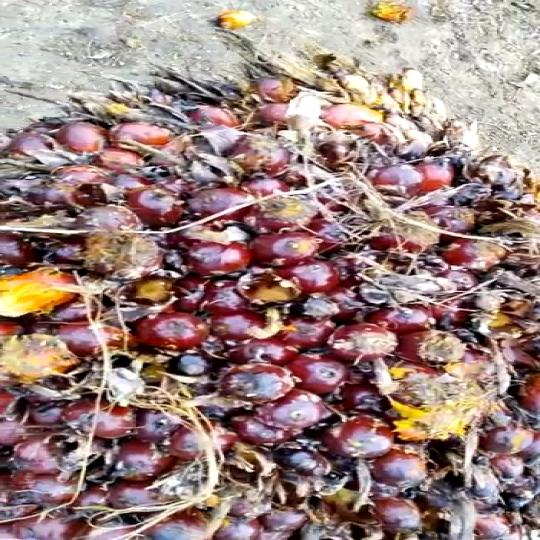masak: (0, 32, 540, 540)
